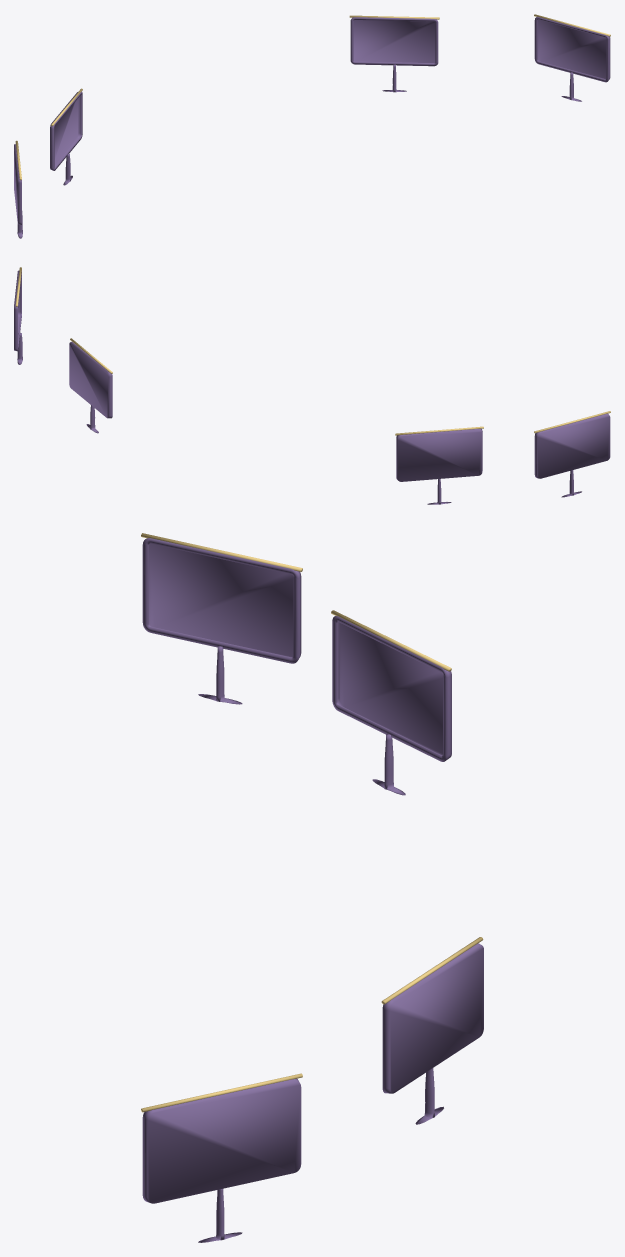
File: bridge_monitors.glb
The picture shows the model from 3 angles, top to bottom: view 1: azimuth 30°, elevation 25°; view 2: azimuth 150°, elevation 25°; view 3: azimuth 270°, elevation 25°; orthographic projection. The views are drawn at different scales.
Visible parts, largest first — view 1: monitor_course, monitor_crew, monitor_signal, monitor_clocks; view 2: monitor_signal, monitor_clocks, monitor_course, monitor_crew; view 3: monitor_clocks, monitor_crew, monitor_signal, monitor_course.
Boxes of the visible parts, bbox=[...] form: monitor_course: bbox=[350, 17, 438, 66]; monitor_crew: bbox=[534, 16, 610, 82]; monitor_signal: bbox=[50, 91, 82, 170]; monitor_clocks: bbox=[14, 144, 21, 224]; monitor_signal: bbox=[396, 428, 482, 481]; monitor_clocks: bbox=[534, 413, 610, 478]; monitor_course: bbox=[69, 341, 112, 418]; monitor_crew: bbox=[14, 270, 21, 351]; monitor_clocks: bbox=[142, 538, 301, 663]; monitor_crew: bbox=[142, 1078, 301, 1203]; monitor_signal: bbox=[332, 616, 451, 761]; monitor_course: bbox=[382, 943, 483, 1093].
Bounding box in the file's own units: 33.63 × 4.01 × 8.43.
